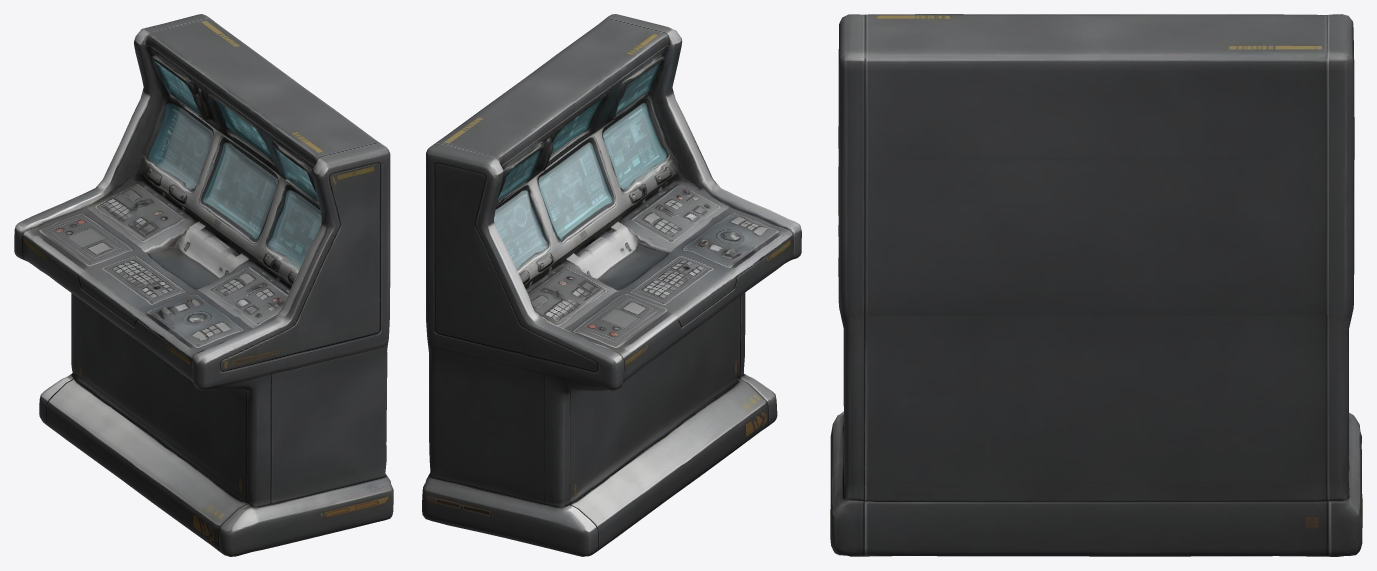
Rendered from console_commandement.glb.
The picture shows the model from 3 angles, left to right: view 1: azimuth 30°, elevation 25°; view 2: azimuth 150°, elevation 25°; view 3: azimuth 270°, elevation 25°; orthographic projection. The views are drawn at different scales.
Parts seen in each view (by area): view 1: tripo_node_c09b7ec4-ee7b-43b5-9a33-bec8c4d06d37; view 2: tripo_node_c09b7ec4-ee7b-43b5-9a33-bec8c4d06d37; view 3: tripo_node_c09b7ec4-ee7b-43b5-9a33-bec8c4d06d37.
Part boxes in pixels (x1=…): tripo_node_c09b7ec4-ee7b-43b5-9a33-bec8c4d06d37: x1=14, y1=14, x2=393, y2=556; tripo_node_c09b7ec4-ee7b-43b5-9a33-bec8c4d06d37: x1=422, y1=14, x2=801, y2=556; tripo_node_c09b7ec4-ee7b-43b5-9a33-bec8c4d06d37: x1=830, y1=14, x2=1362, y2=556.
Size of the model in its own units: 0.5463 by 0.9995 by 0.9577.
Materials: 1 (1 with a texture image).
